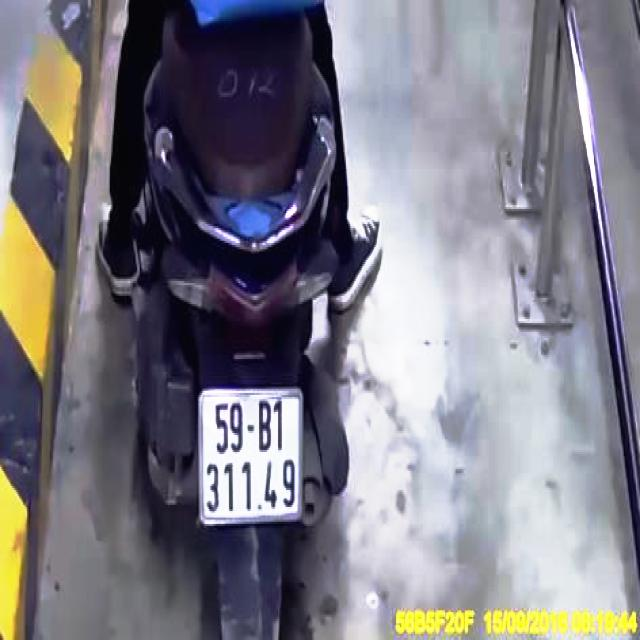license_plate: (202, 391, 304, 524)
